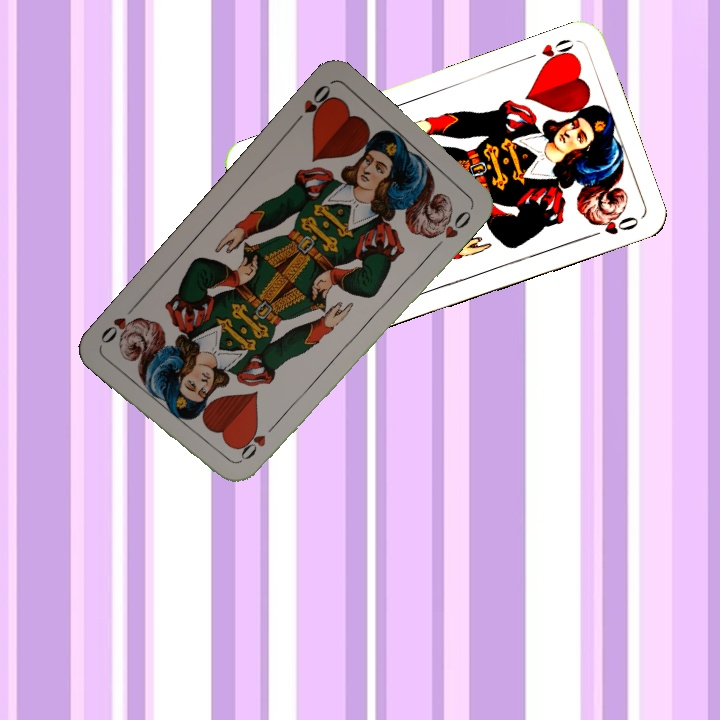HO: (289, 80, 337, 128), (233, 419, 280, 466), (521, 35, 577, 69)
